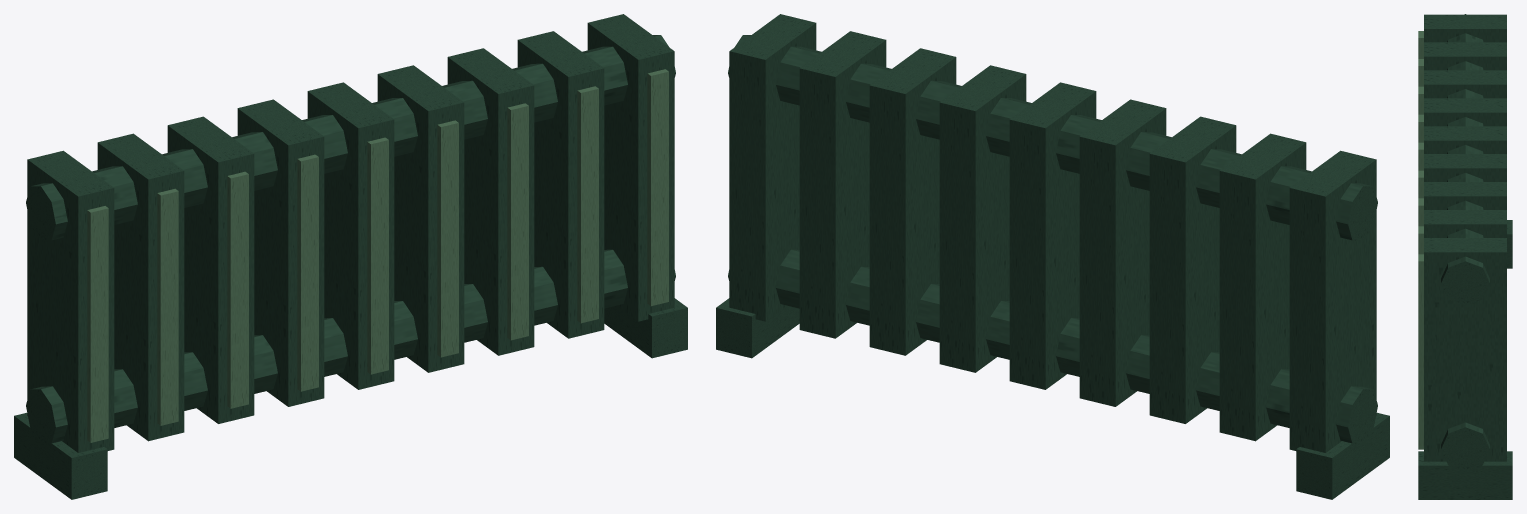
Rendered from Radiator.fbx.
3 views of the same model, side by side, from view 1: azimuth 30°, elevation 25°; view 2: azimuth 150°, elevation 25°; view 3: azimuth 270°, elevation 25° (orthographic). The views are drawn at different scales.
Visible parts, largest first — view 1: Radiator; view 2: Radiator; view 3: Radiator.
Boxes of the visible parts, x1=… form: Radiator: x1=14, y1=14, x2=687, y2=499; Radiator: x1=716, y1=14, x2=1389, y2=499; Radiator: x1=1418, y1=14, x2=1512, y2=499.
Size of the model in its own units: 310 by 142 by 50.
